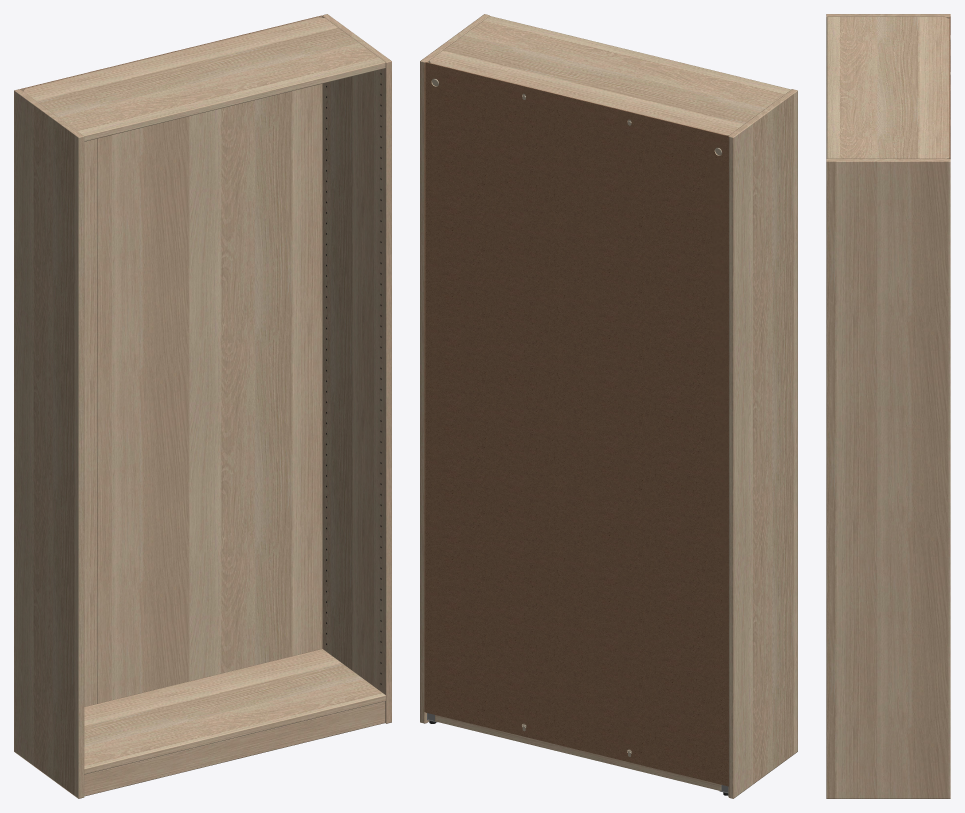
File: gkq8t2hkhueg.glb
3 renders of one model, left to right at view 1: azimuth 30°, elevation 25°; view 2: azimuth 150°, elevation 25°; view 3: azimuth 270°, elevation 25°, orthographic. The views are drawn at different scales.
Visible parts, largest first — view 1: 10458197_01, 10458197_02; view 2: 10458197_02, 10458197_01, 10458197_05; view 3: 10458197_01, 10458197_02.
Boxes of the visible parts, x1,y1,x2,y2 form: 10458197_01: (14,14,391,798); 10458197_02: (20,15,322,706); 10458197_02: (425,62,728,786); 10458197_01: (420,14,797,798); 10458197_05: (424,62,728,786); 10458197_01: (826,14,950,798); 10458197_02: (949,16,950,158).
Size of the model in its own units: 0.9975 by 2.01 by 0.355.
Materials: 8 (5 with a texture image).
